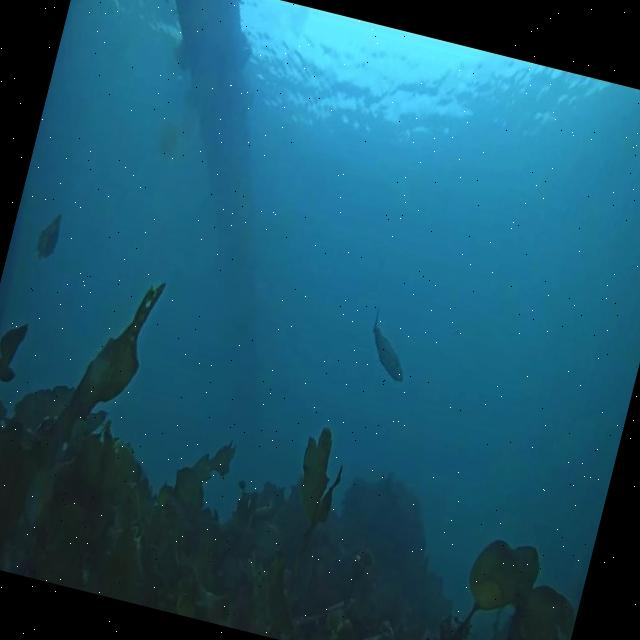fish: (360, 316, 416, 380), (36, 209, 65, 262)
